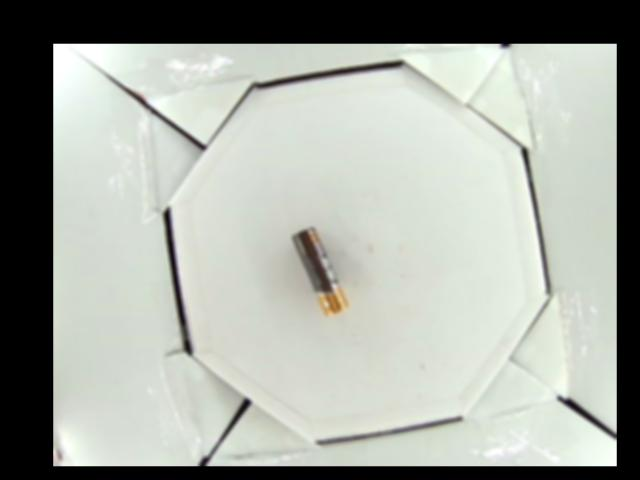Battery: (291, 227, 349, 316)
